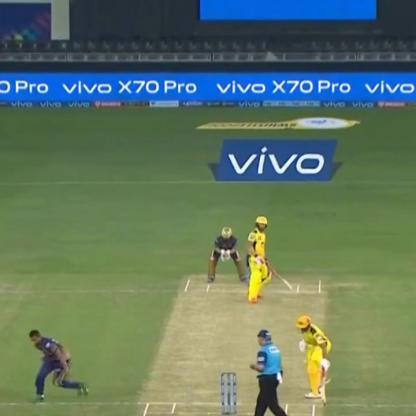pitch: (139, 270, 330, 416)
